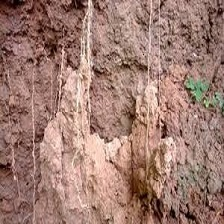clay_soil: (14, 25, 211, 204)
